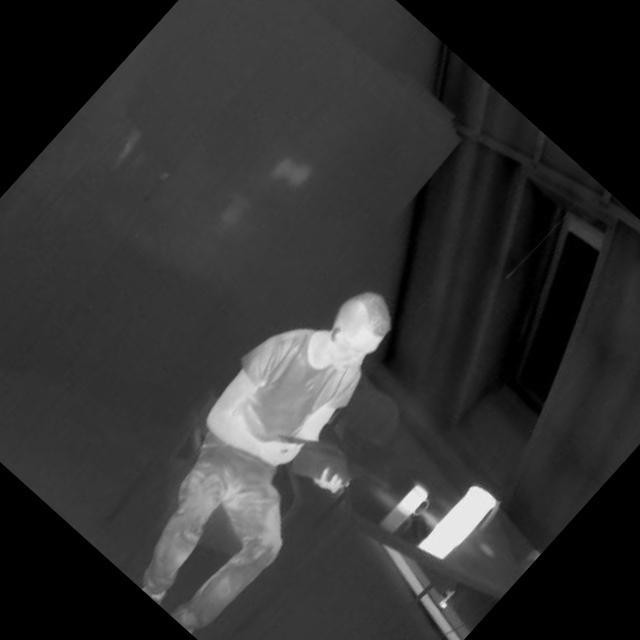person: (81, 247, 466, 640)
